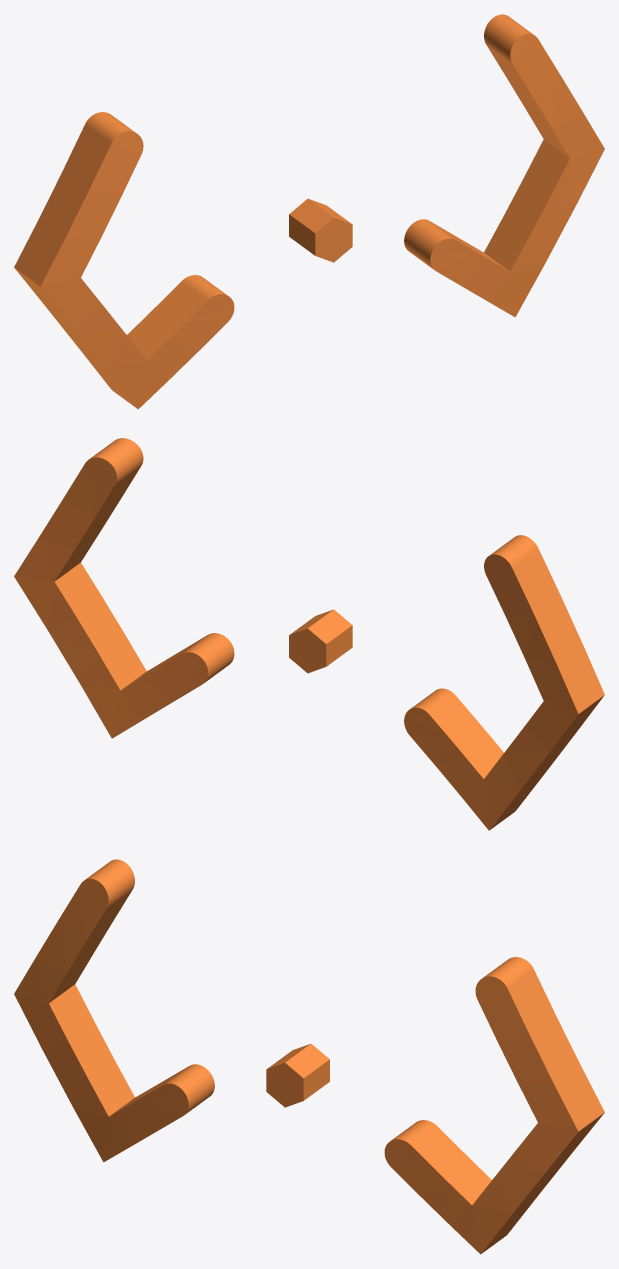
The model's file is navball_reticle.glb.
The picture shows the model from 3 angles, top to bottom: view 1: azimuth 30°, elevation 25°; view 2: azimuth 150°, elevation 25°; view 3: azimuth 330°, elevation 25°; orthographic projection.
Parts seen in each view (by area): view 1: NavballReticle; view 2: NavballReticle; view 3: NavballReticle.
Boxes of the visible parts, left/top/right/bottom form: NavballReticle: left=14, top=14, right=604, bottom=409; NavballReticle: left=14, top=438, right=604, bottom=830; NavballReticle: left=14, top=859, right=604, bottom=1254.
Bounding box in the file's own units: 0.0236 × 0.0112 × 0.00274.
